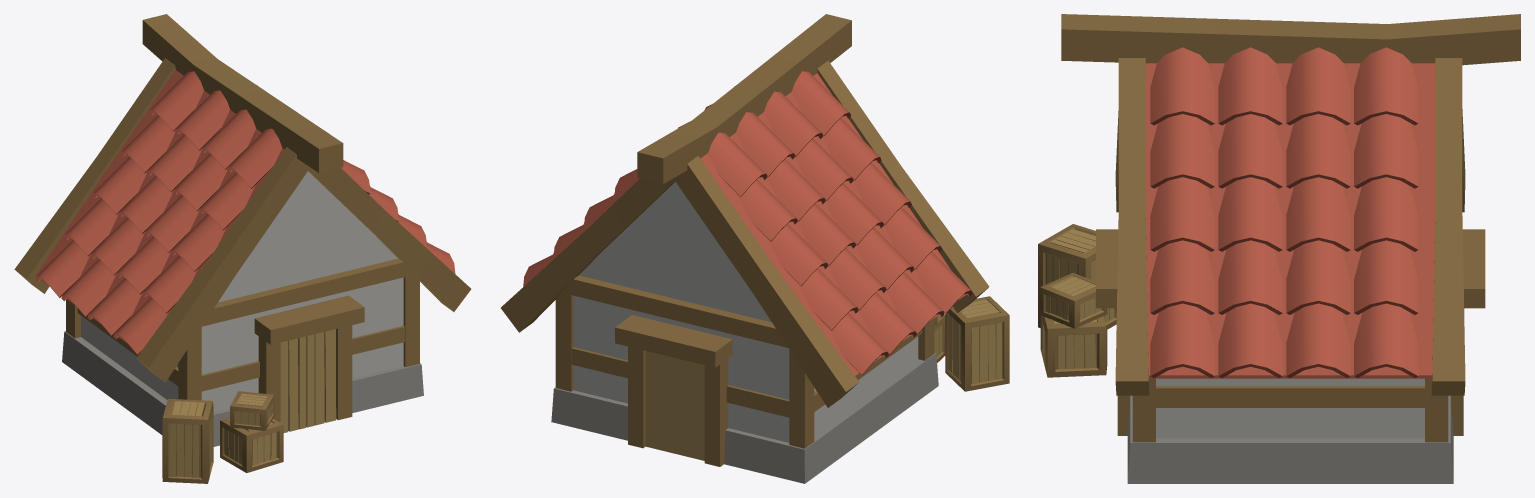
Rendered from Houses_SecondAge_1_Level1.glb.
The picture shows the model from 3 angles, left to right: view 1: azimuth 30°, elevation 25°; view 2: azimuth 150°, elevation 25°; view 3: azimuth 270°, elevation 25°; orthographic projection. The views are drawn at different scales.
Visible parts, largest first — view 1: Houses_SecondAge_1_Level1; view 2: Houses_SecondAge_1_Level1; view 3: Houses_SecondAge_1_Level1.
Part boxes in pixels (x1,y1,x2,y2): Houses_SecondAge_1_Level1: (14, 14, 471, 483); Houses_SecondAge_1_Level1: (501, 14, 1009, 483); Houses_SecondAge_1_Level1: (1038, 14, 1520, 483).
Bounding box in the file's own units: 0.89 × 0.7722 × 0.8644.
1 material, 1 textured.
